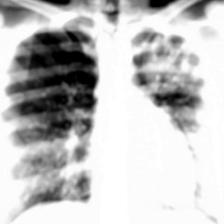tuberculosis: (0, 7, 220, 224)
